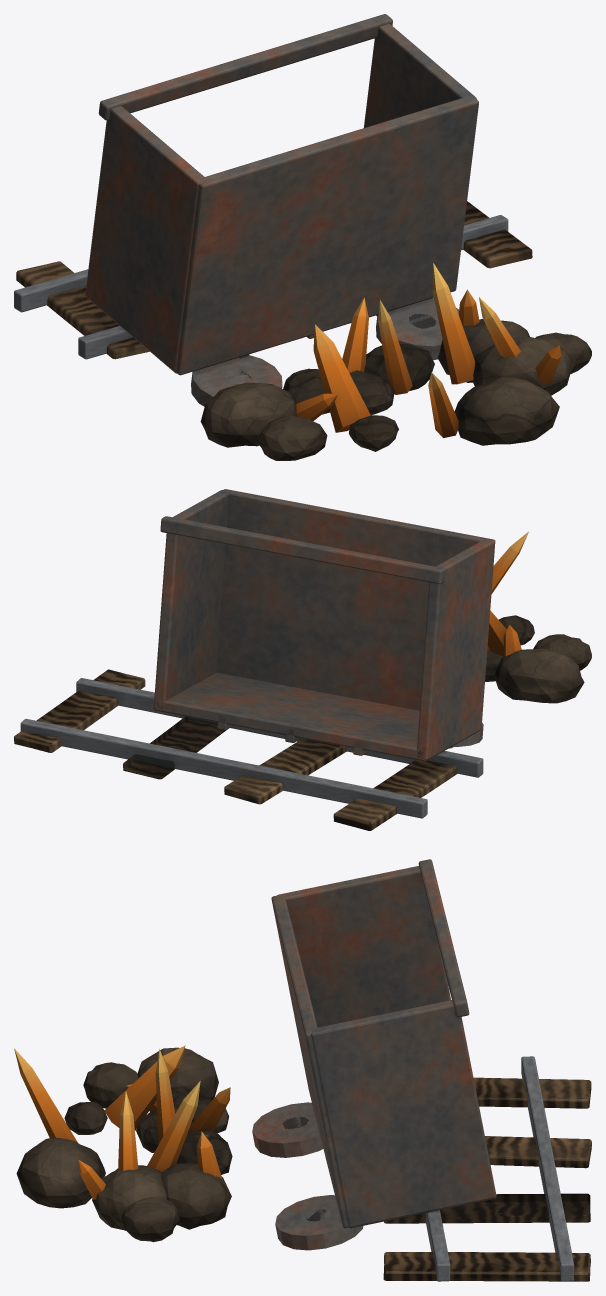
File: poi_ore_cart.glb
3 renders of one model, top to bottom at view 1: azimuth 30°, elevation 25°; view 2: azimuth 150°, elevation 25°; view 3: azimuth 270°, elevation 25°, orthographic. The views are drawn at different scales.
Parts seen in each view (by area): view 1: poi_ore_cart; view 2: poi_ore_cart; view 3: poi_ore_cart.
Boxes of the visible parts, x1=… form: poi_ore_cart: x1=14, y1=14, x2=591, y2=460; poi_ore_cart: x1=14, y1=489, x2=591, y2=830; poi_ore_cart: x1=14, y1=859, x2=591, y2=1281.
Bounding box in the file's own units: 1.8 × 1.04 × 2.1.
5 materials, 5 textured.
